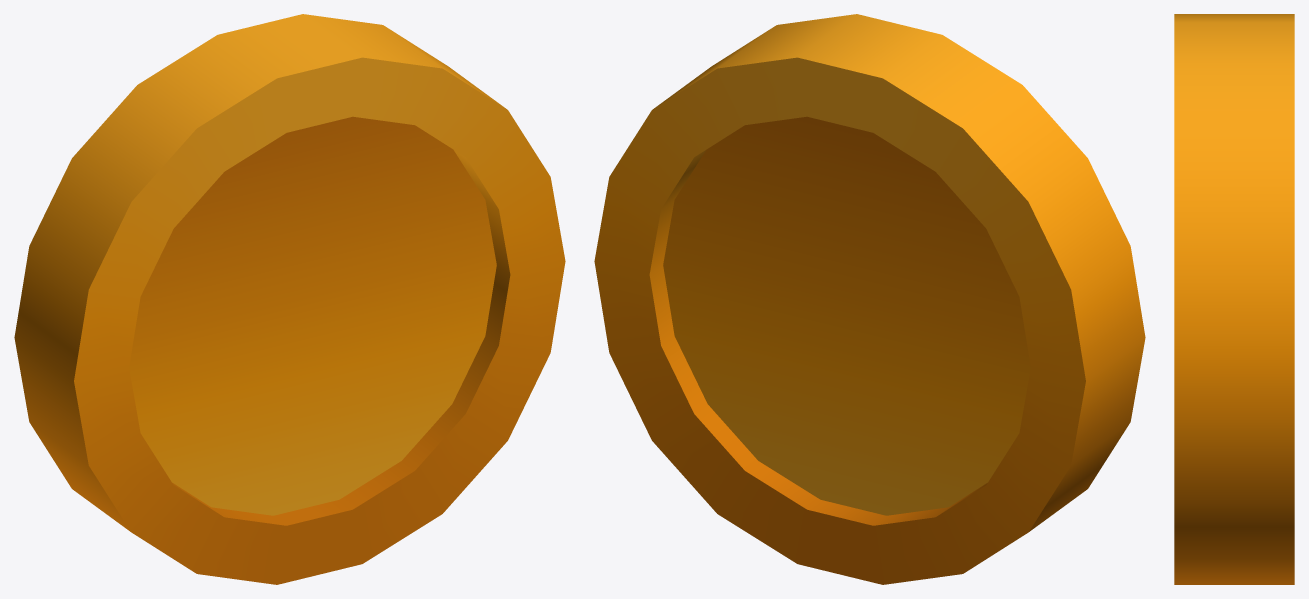
The model's file is Coin.fbx.
3 views of the same model, side by side, from view 1: azimuth 30°, elevation 25°; view 2: azimuth 150°, elevation 25°; view 3: azimuth 270°, elevation 25° (orthographic).
Parts seen in each view (by area): view 1: Collectible_Coin_01; view 2: Collectible_Coin_01; view 3: Collectible_Coin_01.
Part boxes in pixels (box(x1,y1,x2,y2)): Collectible_Coin_01: box(14, 14, 565, 584); Collectible_Coin_01: box(594, 14, 1145, 584); Collectible_Coin_01: box(1174, 14, 1294, 584).
Size of the model in its own units: 79.7 by 78.49 by 16.71.
Materials: 1 (1 with a texture image).
